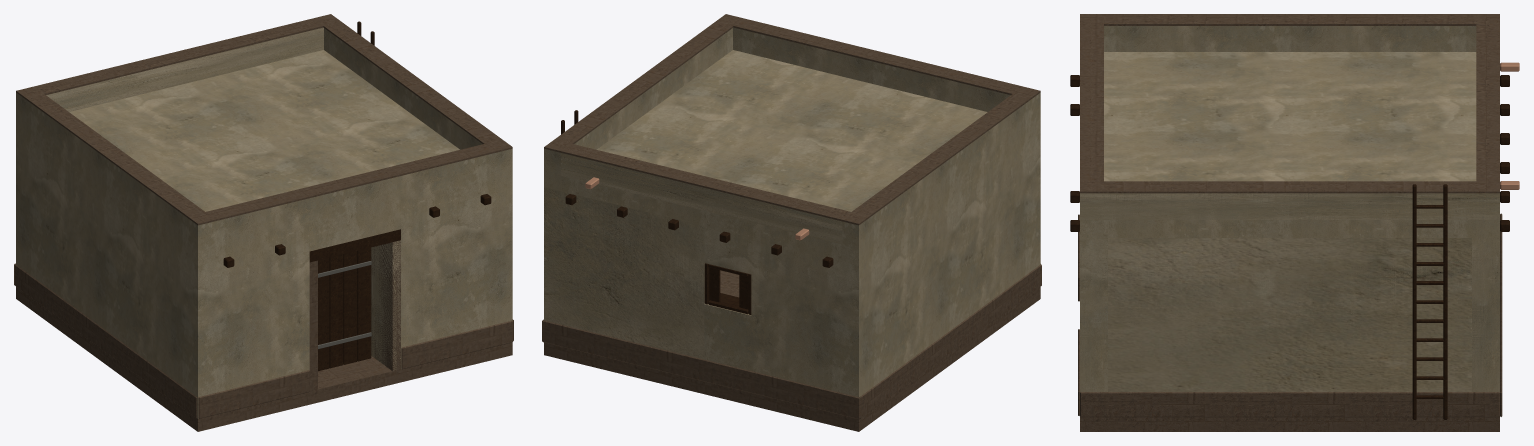
The model's file is d_home_6x6.glb.
The picture shows the model from 3 angles, left to right: view 1: azimuth 30°, elevation 25°; view 2: azimuth 150°, elevation 25°; view 3: azimuth 270°, elevation 25°; orthographic projection. The views are drawn at different scales.
Visible parts, largest first — view 1: front adobe pier, model floor, end parapet-colonly.001, entry reveal-colonly.001, structural timber lintel, front adobe pier-colonly.001, Door entry plank.003, Door entry plank.002, Door entry plank.004, Door entry plank.001; view 2: front adobe pier, model floor, rear adobe pier-colonly.001, end parapet-colonly.001, structural timber lintel; view 3: front adobe pier, side adobe wall-colonly.001, model floor, side parapet-colonly.001, structural timber lintel, rear adobe pier-colonly.001, front adobe pier-colonly.001.
Part boxes in pixels (x1,y1,x2,y2): front adobe pier: (16,28,512,418); model floor: (14,14,513,431); end parapet-colonly.001: (46,27,323,111); entry reveal-colonly.001: (371,240,400,370); structural timber lintel: (223,21,491,267); front adobe pier-colonly.001: (401,187,512,347); Door entry plank.003: (343,251,357,364); Door entry plank.002: (329,254,343,368); Door entry plank.004: (357,247,371,361); Door entry plank.001: (318,257,329,371); front adobe pier: (544,27,1040,397); model floor: (542,14,1041,431); rear adobe pier-colonly.001: (544,187,704,359); end parapet-colonly.001: (561,153,842,244); structural timber lintel: (561,110,833,314); front adobe pier: (1080,26,1499,392); side adobe wall-colonly.001: (1108,238,1471,391); model floor: (1078,14,1502,431); side parapet-colonly.001: (1080,193,1499,219); structural timber lintel: (1070,75,1509,419); rear adobe pier-colonly.001: (1472,238,1499,391); front adobe pier-colonly.001: (1080,238,1107,391).
Size of what is drawn, in the model's own units: 6.15 by 3.94 by 6.42.
Materials: 7 (4 with a texture image).
